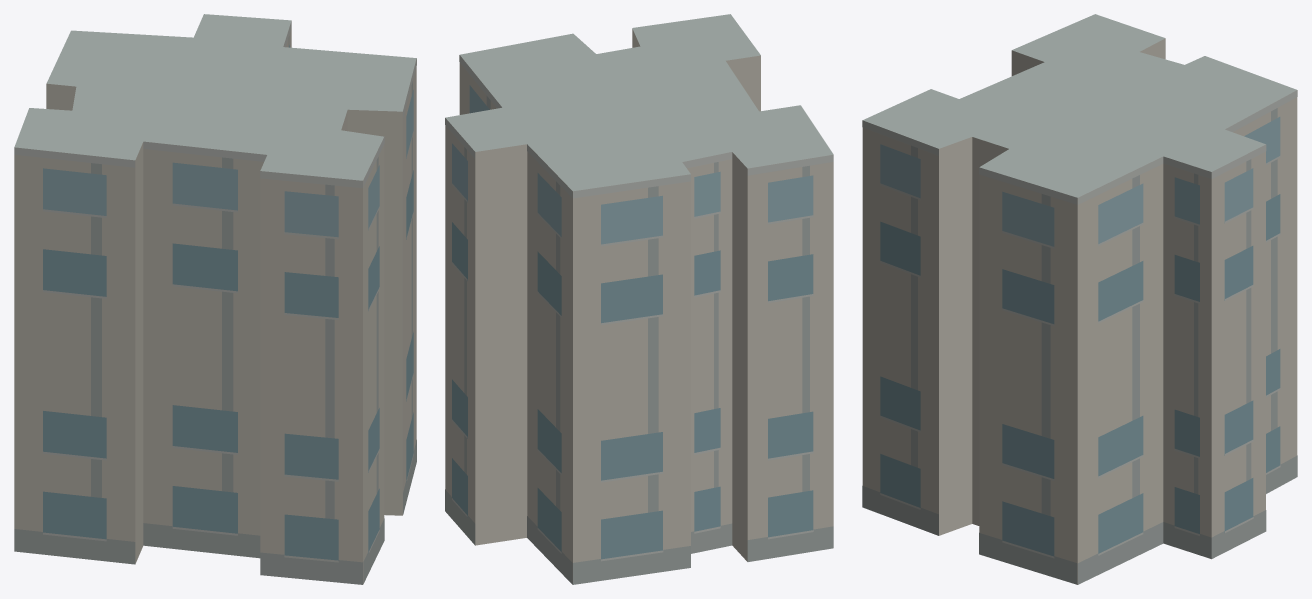
Rendered from survey-upis-32527189.glb.
3 views of the same model, side by side, from view 1: azimuth 30°, elevation 25°; view 2: azimuth 150°, elevation 25°; view 3: azimuth 270°, elevation 25° (orthographic). The views are drawn at different scales.
Visible parts, largest first — view 1: survey-upis-32527189.tmp; view 2: survey-upis-32527189.tmp; view 3: survey-upis-32527189.tmp.
Part boxes in pixels (x1,y1,x2,y2): survey-upis-32527189.tmp: (14,14,416,584); survey-upis-32527189.tmp: (445,14,833,584); survey-upis-32527189.tmp: (862,14,1297,584).
Size of the model in its own units: 13.55 by 13.3 by 13.55.
